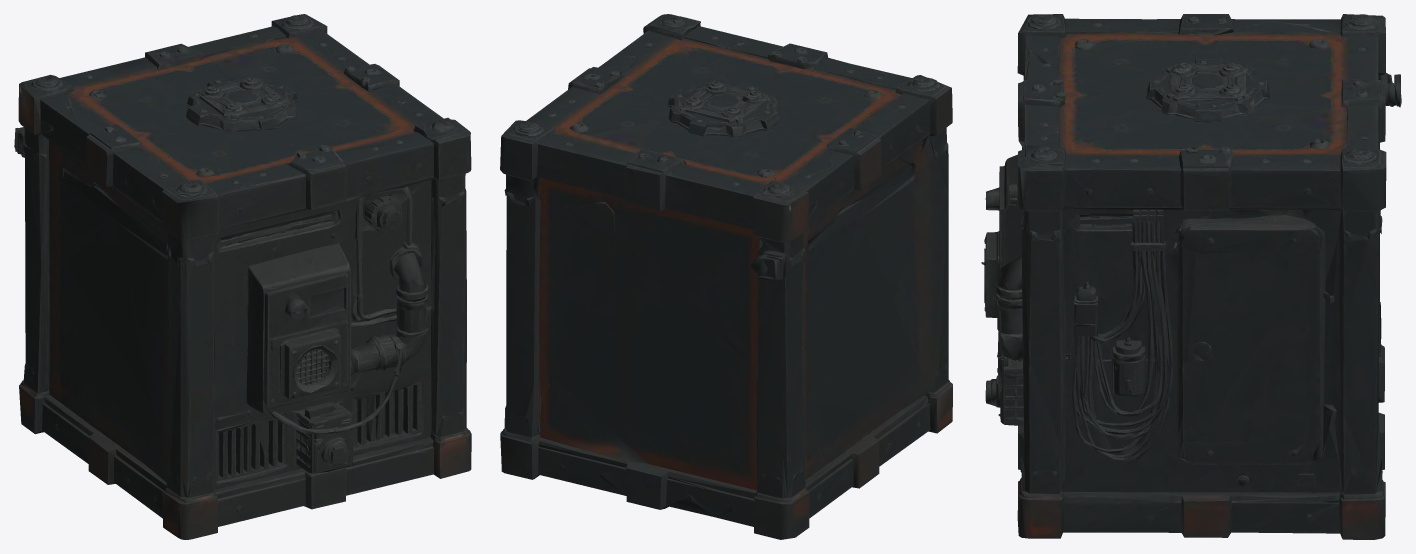
File: mx_tr_scifi_wall.glb
3 views of the same model, side by side, from view 1: azimuth 30°, elevation 25°; view 2: azimuth 150°, elevation 25°; view 3: azimuth 270°, elevation 25° (orthographic). The views are drawn at different scales.
Size of the model in its own units: 1.67 by 1.9 by 1.87.
1 material, 1 textured.
